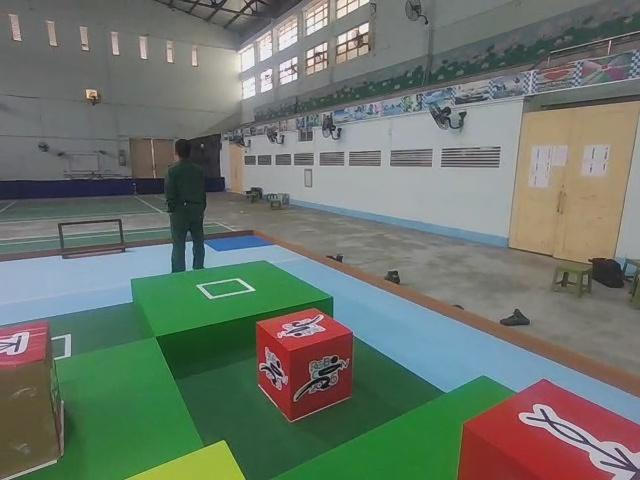R1: (256, 305, 354, 421)
R2 Real: (455, 375, 640, 480)
